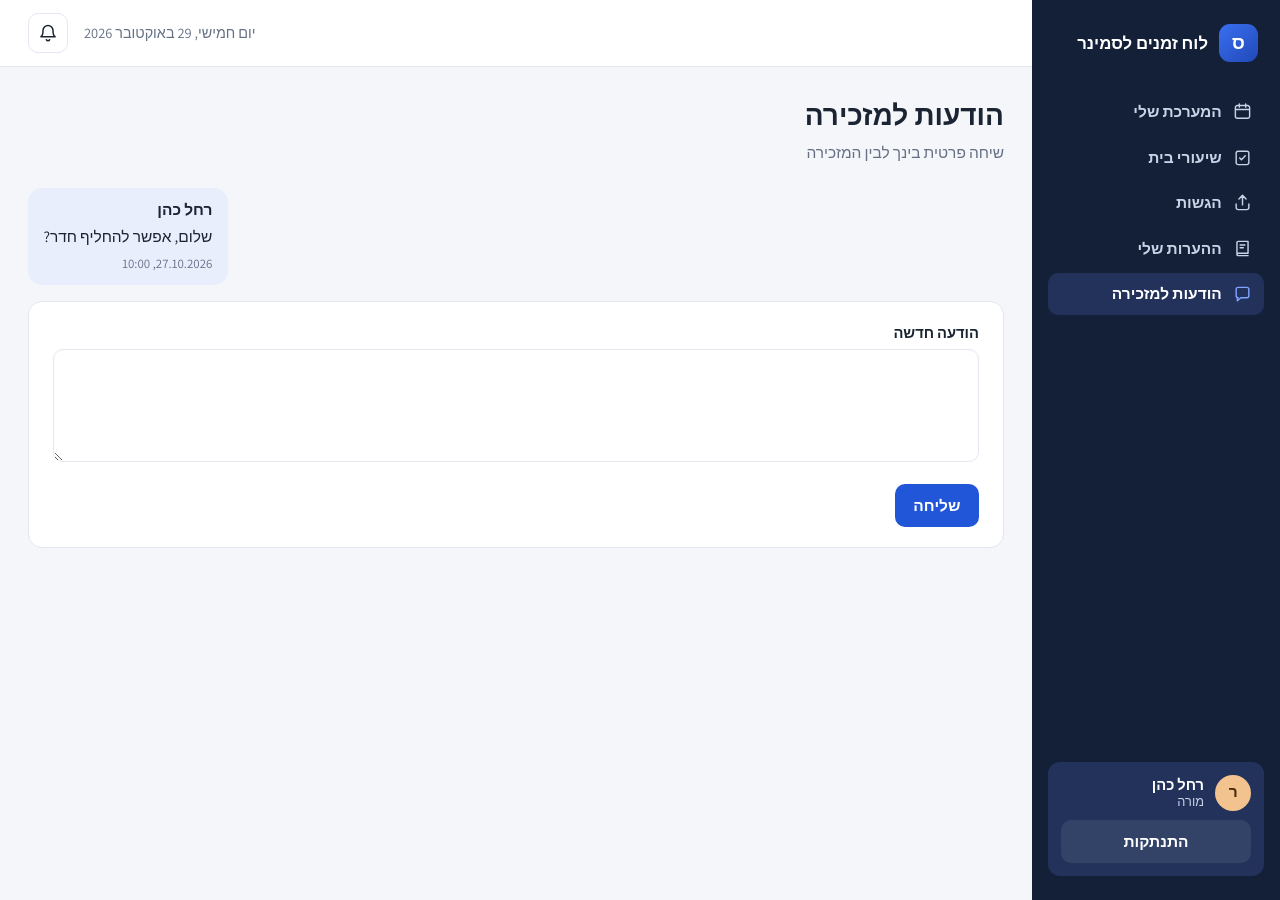
הודעות מורה למזכירה › שליחת הודעה: ללא teacherId, והשיחה מתעדכנת והטופס מתנקה
Check: the text "שלום, אפשר להחליף חדר?" is shown, box x1=43 y1=225 x2=212 y2=248
Step 1. Type "תודה רבה" into the text box labelled "הודעה חדשה" → (516, 405), box x1=53 y1=349 x2=979 y2=462
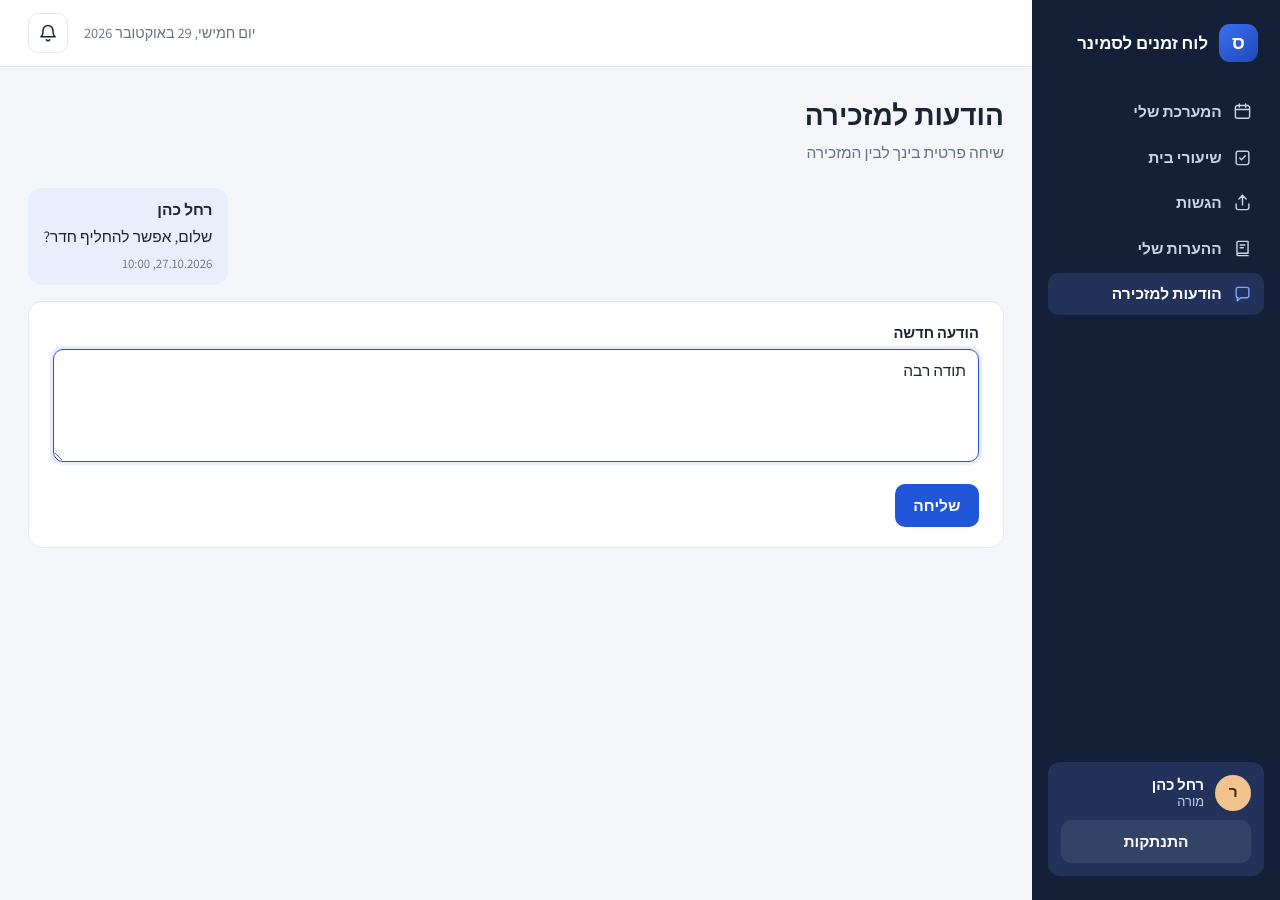
Step 2. Click the button "שליחה" → click(937, 505), box x1=895 y1=484 x2=979 y2=527
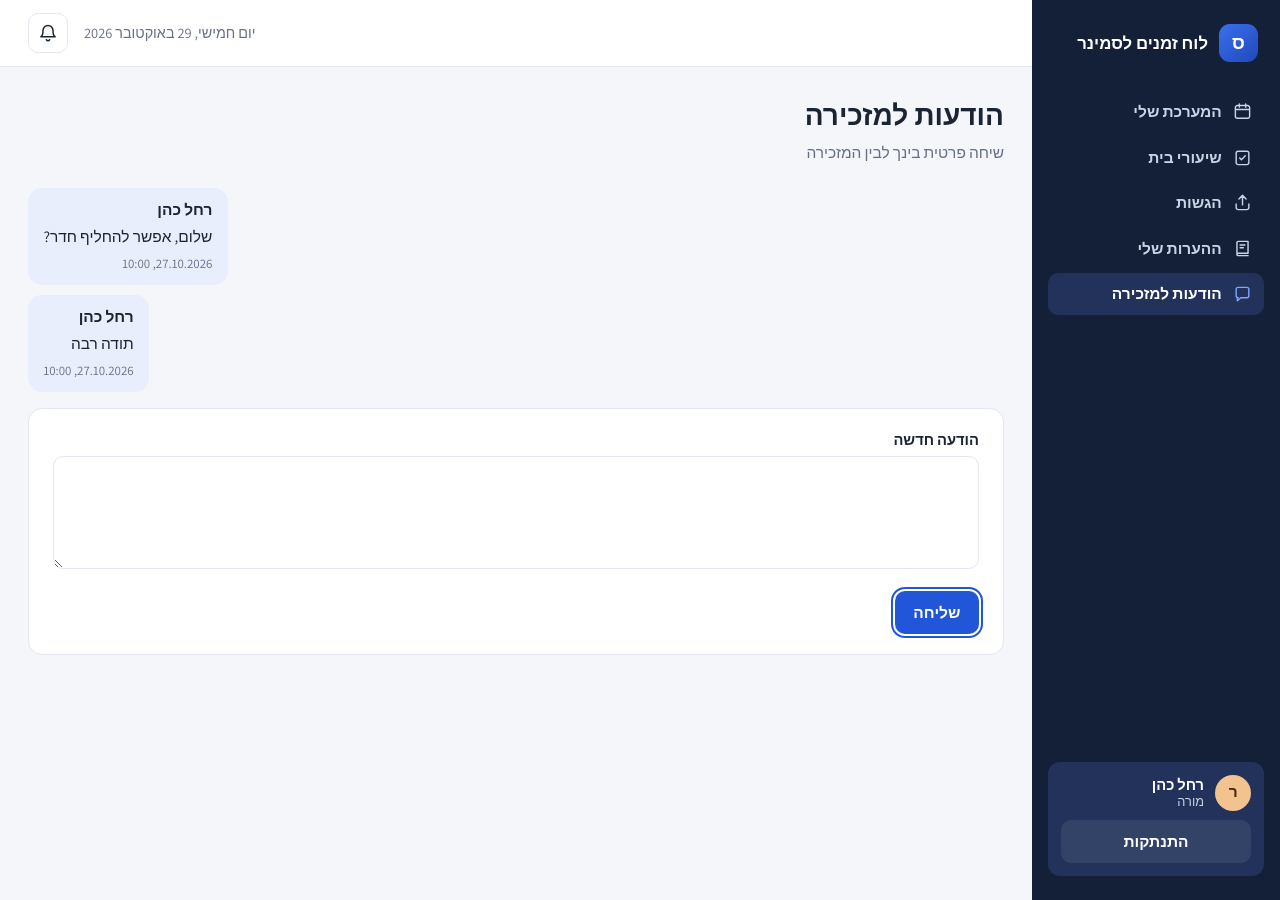
Check: the text "תודה רבה" is shown, box x1=71 y1=333 x2=134 y2=353
Check: the text box labelled "הודעה חדשה" is empty, box x1=53 y1=456 x2=979 y2=568
